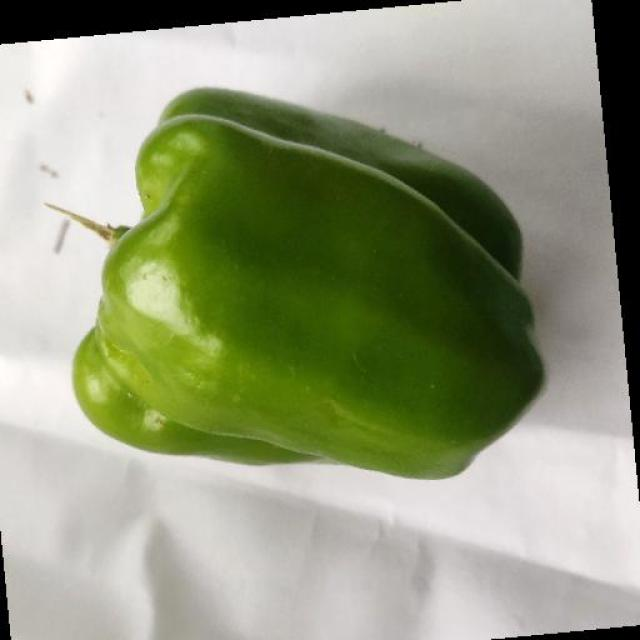Fresh_Capsicum: (80, 134, 523, 445)
